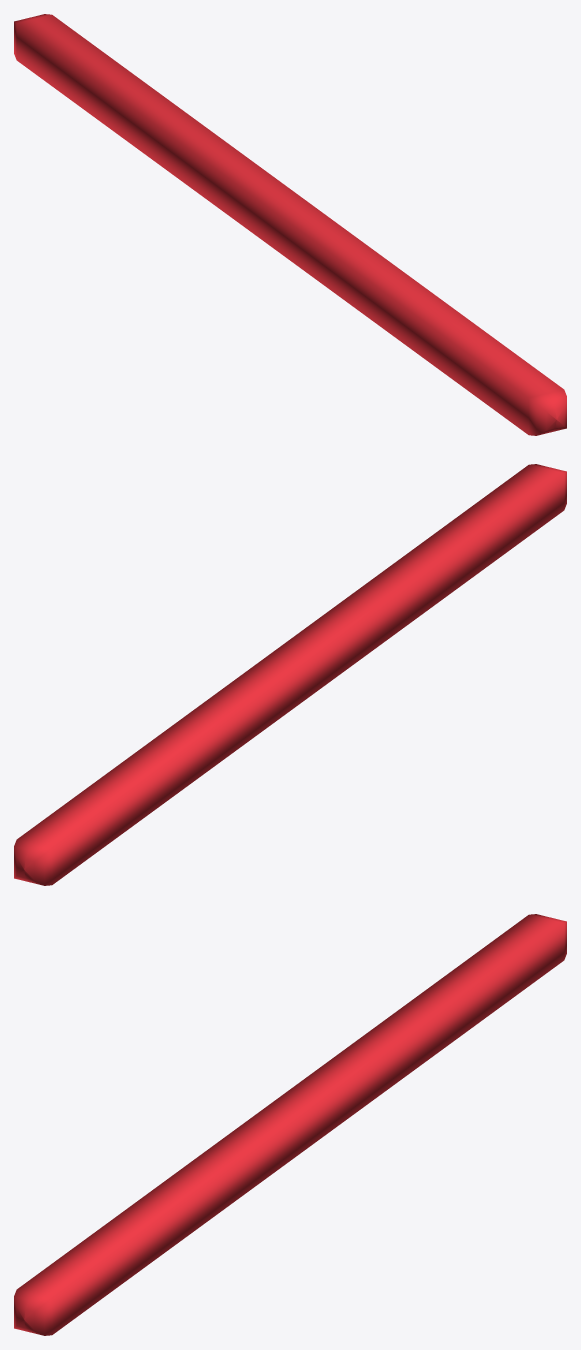
The picture shows the model from 3 angles, top to bottom: view 1: azimuth 30°, elevation 25°; view 2: azimuth 150°, elevation 25°; view 3: azimuth 330°, elevation 25°; orthographic projection.
Parts seen in each view (by area): view 1: Curve; view 2: Curve; view 3: Curve.
Part boxes in pixels (x1=…): Curve: x1=14, y1=14, x2=566, y2=435; Curve: x1=14, y1=464, x2=566, y2=885; Curve: x1=14, y1=914, x2=566, y2=1335.
Bounding box in the file's own units: 6602 × 6602 × 171614.
